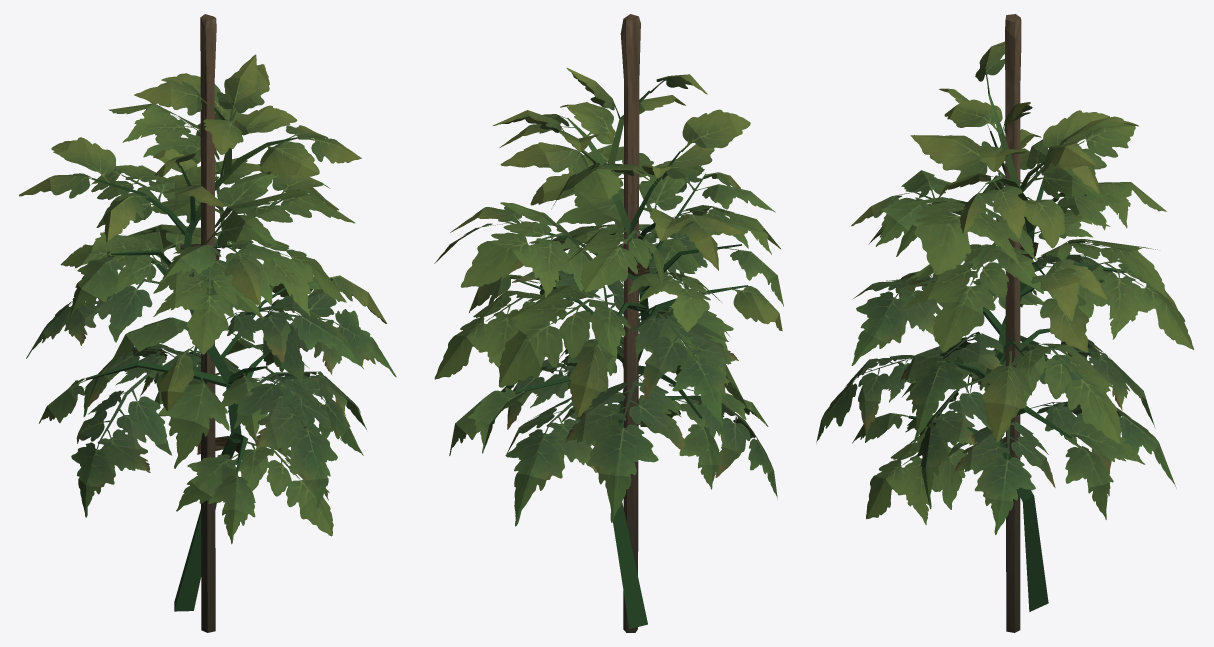
Rendered from P_Herb_00174.obj.
3 renders of one model, left to right at view 1: azimuth 30°, elevation 25°; view 2: azimuth 150°, elevation 25°; view 3: azimuth 270°, elevation 25°, orthographic.
Size of the model in its own units: 0.9622 by 1.77 by 1.01.
Materials: 1 (1 with a texture image).
